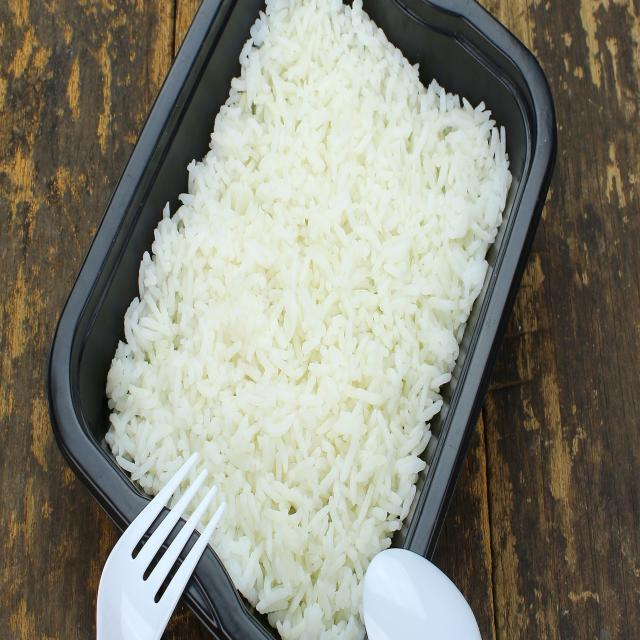arroz: (99, 4, 519, 588)
